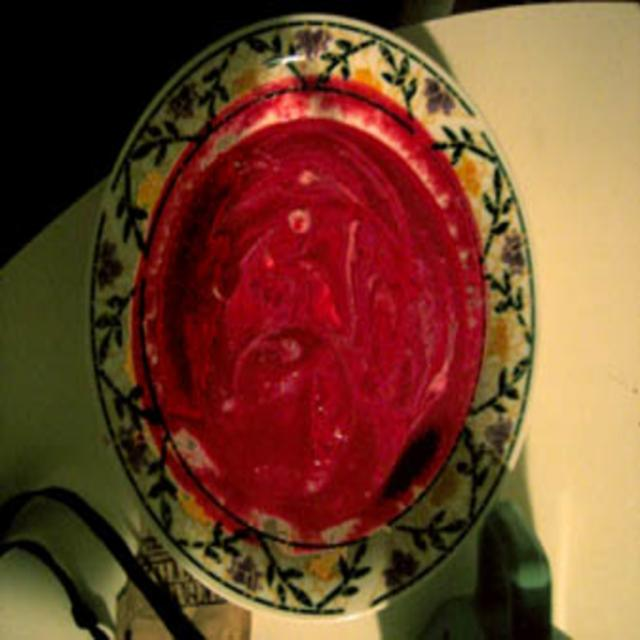non-organic waste: (88, 0, 549, 624)
